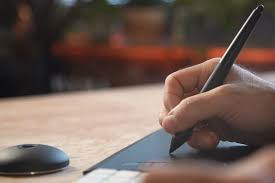pen: (169, 4, 262, 153)
